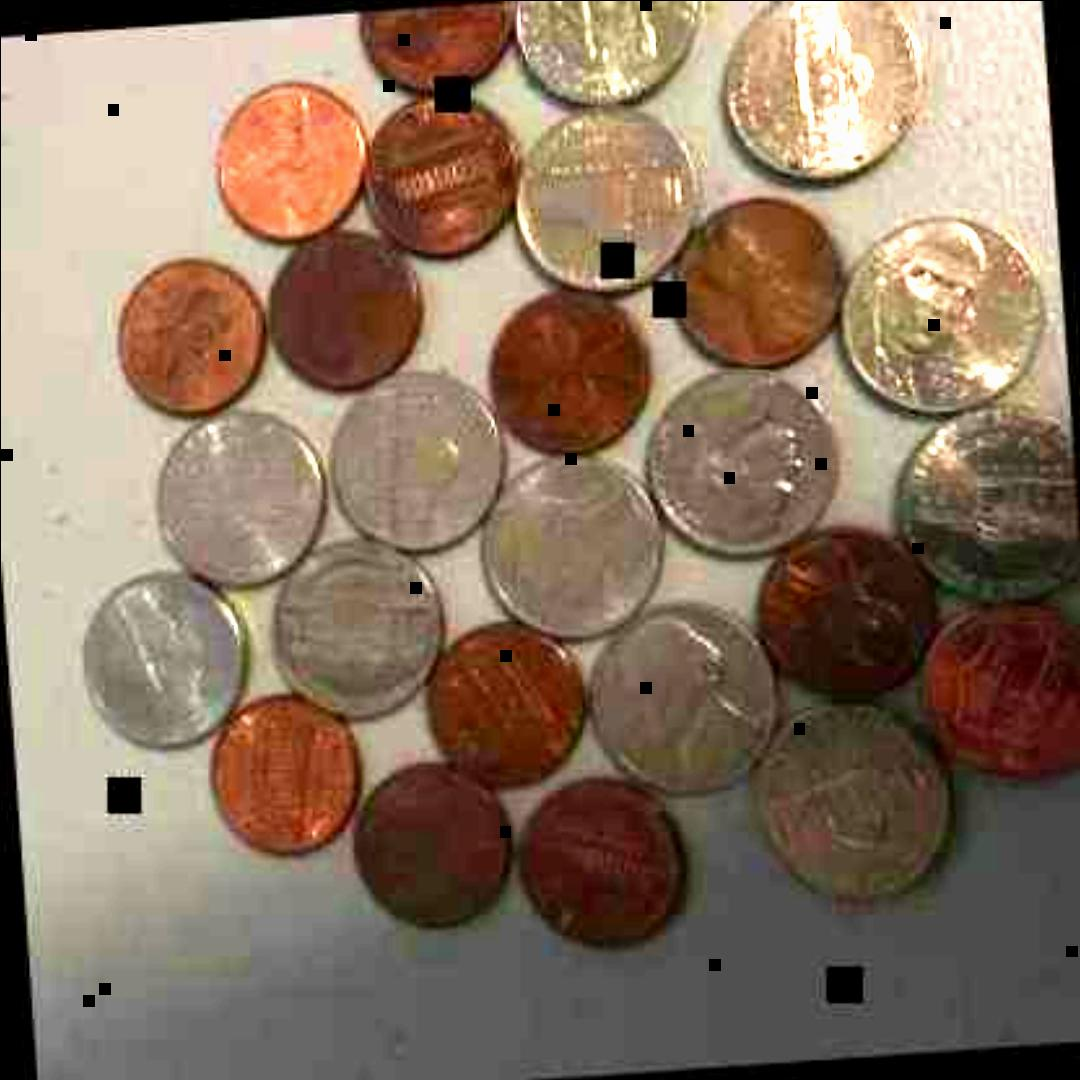Nickel: (835, 208, 1063, 426), (751, 695, 963, 915), (645, 361, 850, 571), (717, 0, 935, 192), (587, 596, 786, 806), (476, 447, 676, 649), (514, 100, 712, 300), (322, 364, 520, 562), (896, 408, 1080, 614), (263, 533, 457, 727), (148, 399, 332, 591), (77, 564, 261, 750), (514, 0, 714, 120)
Penny: (512, 769, 698, 963), (668, 187, 854, 381), (756, 527, 950, 713), (487, 283, 660, 469), (422, 618, 598, 799), (914, 608, 1080, 792), (353, 763, 519, 944), (360, 91, 530, 267), (264, 228, 430, 398), (210, 81, 374, 252), (209, 694, 364, 866), (115, 254, 270, 424), (362, 0, 526, 98)
